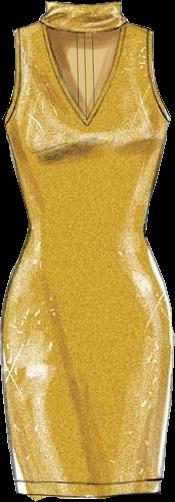Bodice: (4, 0, 170, 221)
Hemline: (13, 490, 162, 501)
Neckline: (41, 19, 127, 123), (38, 19, 127, 34), (44, 0, 121, 7)
Skirt: (1, 221, 173, 500)
